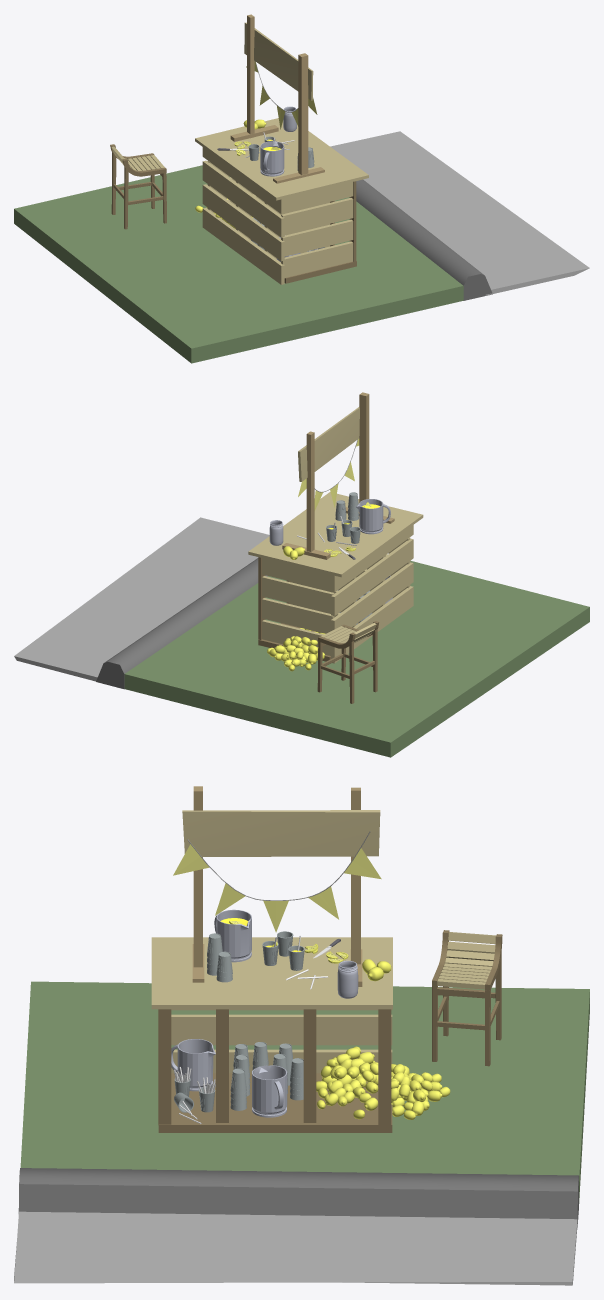
Rendered from limonade.gltf.
3 views of the same model, one above another, from view 1: azimuth 30°, elevation 25°; view 2: azimuth 150°, elevation 25°; view 3: azimuth 270°, elevation 25° (orthographic). The views are drawn at different scales.
Parts seen in each view (by area): view 1: polySurface119, polySurface121, BoisStand_ArriereAll, BoisStand_DroitAll, BoisStand_Haut, polySurface120, polySurface287, BoisPanneau_Droit, BoisPanneau_Gauche, polySurface133, BoisStand_Bas; view 2: polySurface119, polySurface121, BoisStand_ArriereAll, BoisStand_Haut, BoisStand_GaucheAll, polySurface120, polySurface287, Citrons_Dessous, BoisPanneau_Droit, BoisPanneau_Gauche, polySurface133; view 3: polySurface119, polySurface121, polySurface120, BoisStand_Haut, polySurface287, BoisStand_ArriereAll, BoisStand_Bas, Citrons_Dessous, Pichet_Sous_03, Pichet_Sous_02, BoisStand_MilieuDevant4, BoisStand_MilieuDevant1 (+7 smaller).
Boxes of the visible parts, box(x1,y1,x2,y2) form: polySurface119: box(14, 165, 463, 363); polySurface121: box(330, 131, 589, 295); BoisStand_ArriereAll: box(202, 147, 284, 284); BoisStand_DroitAll: box(281, 182, 353, 277); BoisStand_Haut: box(195, 118, 368, 200); polySurface120: box(356, 179, 492, 300); polySurface287: box(244, 22, 313, 100); BoisPanneau_Droit: box(298, 53, 308, 174); BoisPanneau_Gauche: box(247, 14, 254, 138); polySurface133: box(260, 141, 284, 176); BoisStand_Bas: box(235, 228, 356, 283); polySurface119: box(124, 560, 589, 757); polySurface121: box(14, 517, 269, 681); BoisStand_ArriereAll: box(331, 525, 413, 663); BoisStand_Haut: box(248, 492, 423, 577); BoisStand_GaucheAll: box(262, 558, 334, 655); polySurface120: box(96, 558, 267, 689); polySurface287: box(298, 407, 359, 481); Citrons_Dessous: box(267, 628, 325, 671); BoisPanneau_Droit: box(359, 392, 369, 502); BoisPanneau_Gauche: box(306, 431, 314, 551); polySurface133: box(356, 499, 383, 534); polySurface119: box(20, 981, 589, 1203); polySurface121: box(14, 1211, 577, 1285); polySurface120: box(18, 1168, 578, 1227); BoisStand_Haut: box(151, 937, 392, 1009); polySurface287: box(182, 810, 380, 856); BoisStand_ArriereAll: box(171, 1009, 392, 1073); BoisStand_Bas: box(158, 1073, 392, 1132); Citrons_Dessous: box(316, 1046, 450, 1119); Pichet_Sous_03: box(252, 1065, 287, 1117); Pichet_Sous_02: box(171, 1039, 215, 1091); BoisStand_MilieuDevant4: box(378, 1009, 391, 1125); BoisStand_MilieuDevant1: box(158, 1009, 171, 1124).
Bounding box in the file's own units: 4.07 × 2.25 × 3.47.
